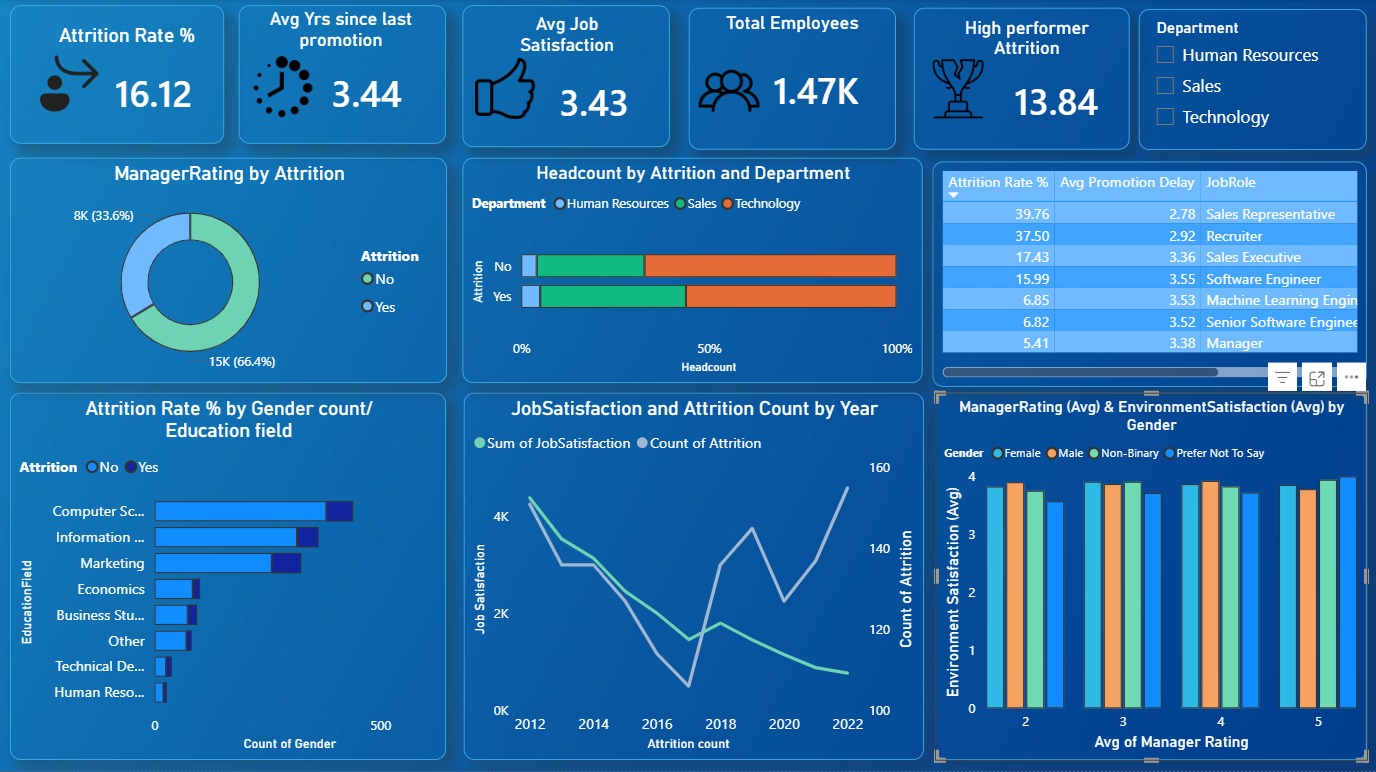

The dashboard page shown, as its layout file describes it:
{"tool":"powerbi","page":{"name":"DASHBOARD","canvas":[1280,720],"ordinal":0},"visuals":[{"type":"cardVisual","title":"Attrition Rate %","fields":{"Data":["Employee1.Attrition Rate %"]},"box":[28.1,23,180.2,102.2],"z":0},{"type":"barChart","title":"Attrition Rate % by Gender count/ Education field","fields":{"Y":["CountNonNull(Employee1.Gender)"],"Series":["Employee1.Attrition"],"Category":["Employee1.EducationField"]},"box":[8.7,366.9,405.5,341.9],"z":1000},{"type":"shape","box":[8.9,6.4,199.3,129],"z":2000},{"type":"shape","box":[222.3,6.4,192.9,129],"z":3000},{"type":"cardVisual","title":"Avg Yrs since last promotion","fields":{"Data":["Avg(Employee1.YearsSinceLastPromotion)"]},"box":[231.4,8.7,171.7,123.2],"z":4000},{"type":"shape","box":[430.6,6.4,192.9,131.6],"z":5000},{"type":"cardVisual","title":"Avg Job Satisfaction","fields":{"Data":["Avg(PerformanceRating3.JobSatisfaction)"]},"box":[440.8,12.8,173.8,122.7],"z":6000},{"type":"shape","box":[640.1,7.7,192.9,131.6],"z":7000},{"type":"cardVisual","title":"Total Employees","fields":{"Data":["CountNonNull(Employee1.EmployeeID)"]},"box":[646.5,11.5,181.4,125.2],"z":8000},{"type":"shape","box":[849.8,7.9,201.2,132.4],"z":9000},{"type":"cardVisual","title":"High performer Attrition","fields":{"Data":["PerformanceRating3.High Performer Attrition %"]},"box":[859.1,15.9,191.9,123.1],"z":10000},{"type":"lineChart","title":"JobSatisfaction and Attrition Count by Year","fields":{"Y2":["CountNonNull(Employee1.Attrition)"],"Y":["Sum(PerformanceRating3.JobSatisfaction)"],"Category":["Employee1.HireDate.Variation.Date Hierarchy.Year"]},"box":[431.7,366.9,428,341.9],"z":11000},{"type":"donutChart","title":"ManagerRating by Attrition","fields":{"Y":["Sum(PerformanceRating3.ManagerRating)"],"Category":["Employee1.Attrition"]},"box":[8.7,147.2,406.8,209.6],"z":12000},{"type":"slicer","title":"Department","fields":{"Values":["Employee1.Department"]},"box":[1059.4,8.7,212.1,131],"z":13000},{"type":"tableEx","fields":{"Values":["Employee1.Attrition Rate %","PerformanceRating3.Avg Promotion Delay","Employee1.JobRole","Avg(PerformanceRating3.JobSatisfaction)"]},"box":[867.2,151,404.3,209.6],"z":14000},{"type":"scatterChart","title":"ManagerRating (Avg) and EnvironmentSatisfaction (Avg) by Gender","fields":{"Y":["PerformanceRating3.EnvironmentSatisfaction"],"X":["PerformanceRating3.ManagerRating"],"Category":["Employee1.Gender"],"Series":["Employee1.Attrition"]},"box":[869.7,366.9,401.8,341.9],"z":15000},{"type":"scatterChart","fields":{"X":["Employee1.Attrition"],"Y":["EducationLevel2.Headcount"],"Size":["EducationLevel2.Headcount"],"Series":["Employee1.Department"]},"box":[430.5,147.2,428,209.6],"z":16000},{"type":"image","box":[21.2,43.7,87.3,67.4],"z":17000},{"type":"image","box":[230.8,46.2,78.6,67.4],"z":18000},{"type":"image","box":[858.5,46.2,78.6,67.4],"z":19000},{"type":"image","box":[640.1,46.2,78.6,67.4],"z":20000},{"type":"image","box":[440.5,46.2,78.6,67.4],"z":21000}]}

Visuals, with their boxes in screenshot pixels (x1, y1, x2, y2), scaled from the page's 1280x720 canvas onto the 1376x772 screenshot:
"Attrition Rate %" cardVisual: x1=30 y1=25 x2=224 y2=134
"Attrition Rate % by Gender count/ Education field" barChart: x1=9 y1=393 x2=445 y2=760
shape: x1=10 y1=7 x2=224 y2=145
shape: x1=239 y1=7 x2=446 y2=145
"Avg Yrs since last promotion" cardVisual: x1=249 y1=9 x2=433 y2=141
shape: x1=463 y1=7 x2=670 y2=148
"Avg Job Satisfaction" cardVisual: x1=474 y1=14 x2=661 y2=145
shape: x1=688 y1=8 x2=895 y2=149
"Total Employees" cardVisual: x1=695 y1=12 x2=890 y2=147
shape: x1=914 y1=8 x2=1130 y2=150
"High performer Attrition" cardVisual: x1=924 y1=17 x2=1130 y2=149
"JobSatisfaction and Attrition Count by Year" lineChart: x1=464 y1=393 x2=924 y2=760
"ManagerRating by Attrition" donutChart: x1=9 y1=158 x2=447 y2=383
"Department" slicer: x1=1139 y1=9 x2=1367 y2=150
tableEx - Employee1.Attrition Rate % x PerformanceRating3.Avg Promotion Delay: x1=932 y1=162 x2=1367 y2=387
"ManagerRating (Avg) and EnvironmentSatisfaction (Avg) by Gender" scatterChart: x1=935 y1=393 x2=1367 y2=760
scatterChart - Employee1.Attrition x EducationLevel2.Headcount: x1=463 y1=158 x2=923 y2=383
image: x1=23 y1=47 x2=117 y2=119
image: x1=248 y1=50 x2=333 y2=122
image: x1=923 y1=50 x2=1007 y2=122
image: x1=688 y1=50 x2=773 y2=122
image: x1=474 y1=50 x2=558 y2=122
